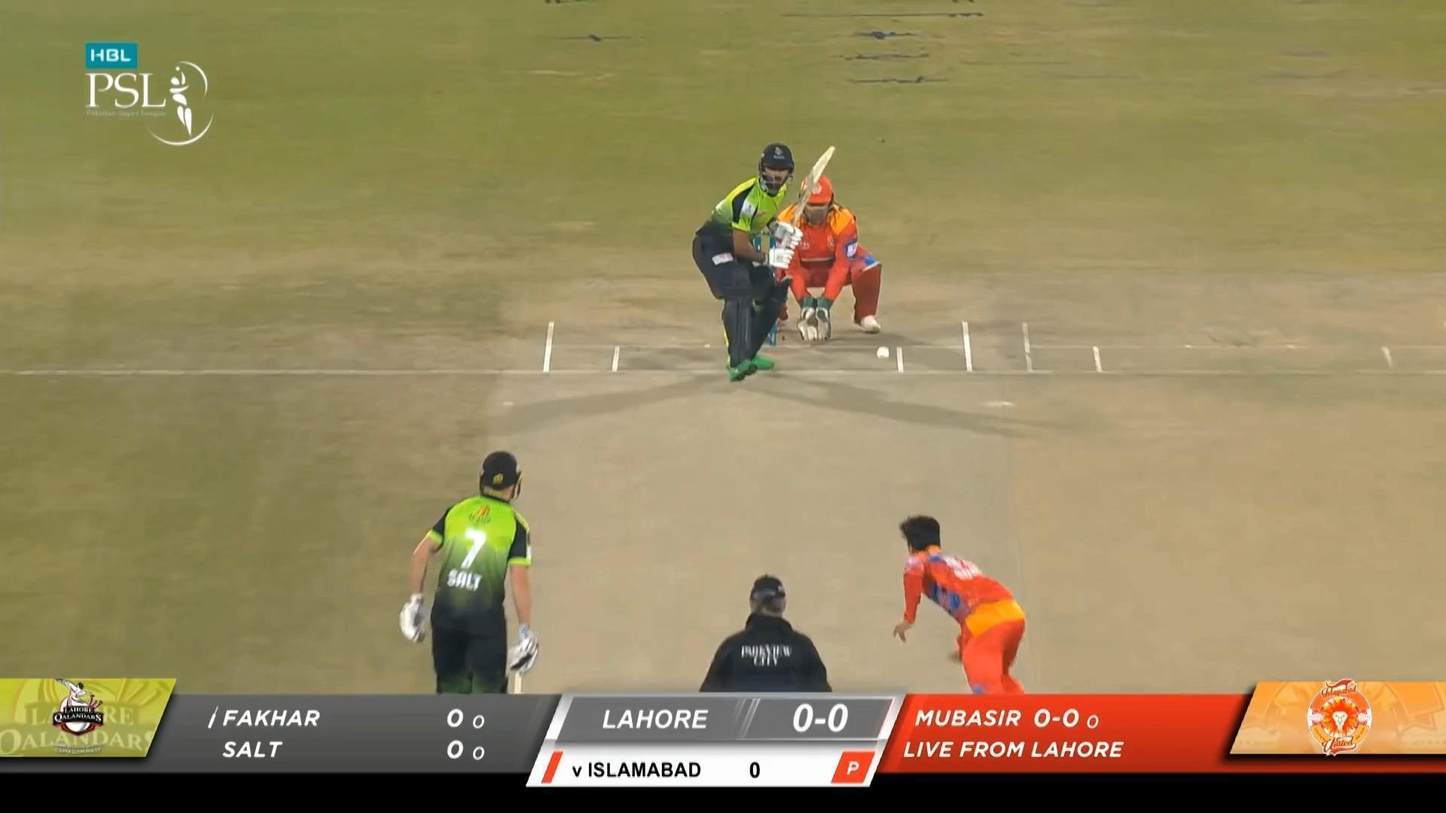BM 1: (692, 141, 836, 382)
BO: (892, 514, 1026, 694)
